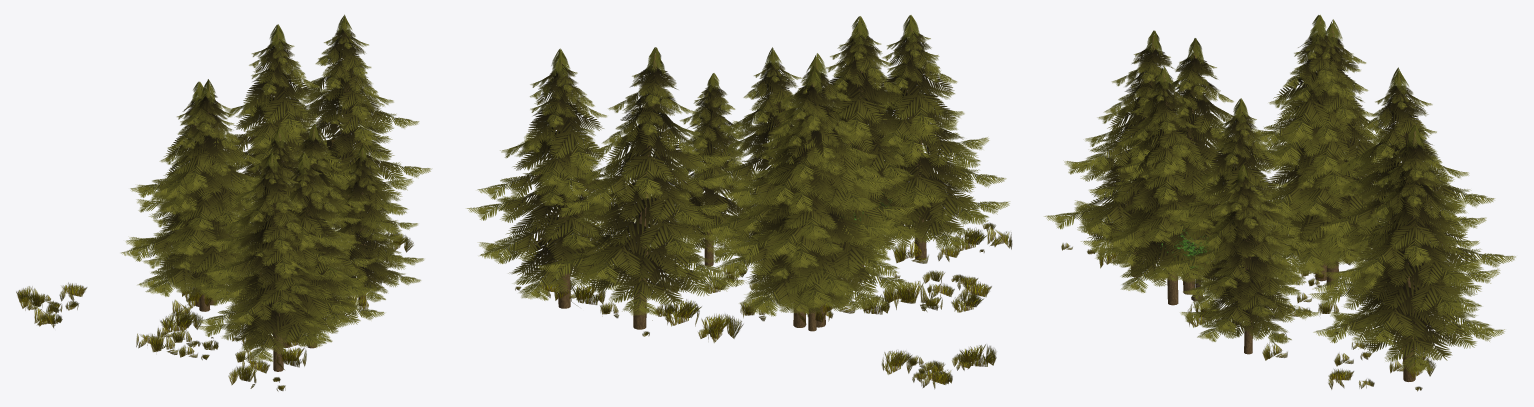
The picture shows the model from 3 angles, left to right: view 1: azimuth 30°, elevation 25°; view 2: azimuth 150°, elevation 25°; view 3: azimuth 270°, elevation 25°; orthographic projection. The views are drawn at different scales.
Visible parts, largest first — view 1: Low Poly Stylized 2D Grass.1151; view 2: Low Poly Stylized 2D Grass.1151; view 3: Low Poly Stylized 2D Grass.1151.
Part boxes in pixels (<box>): Low Poly Stylized 2D Grass.1151: <box>16,14,431,391</box>; Low Poly Stylized 2D Grass.1151: <box>466,15,1012,388</box>; Low Poly Stylized 2D Grass.1151: <box>1044,15,1515,391</box>.
Size of the model in its own units: 26.58 by 14.52 by 22.92.
Materials: 5 (4 with a texture image).
